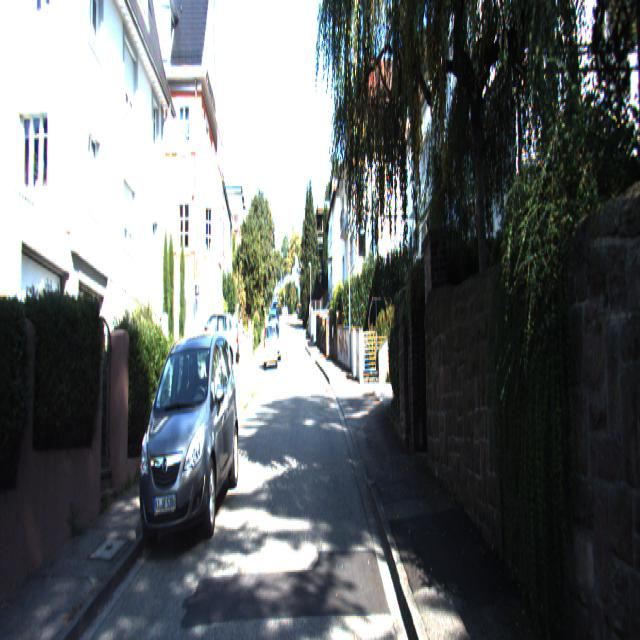Car: (134, 332, 242, 555), (263, 319, 279, 370)
